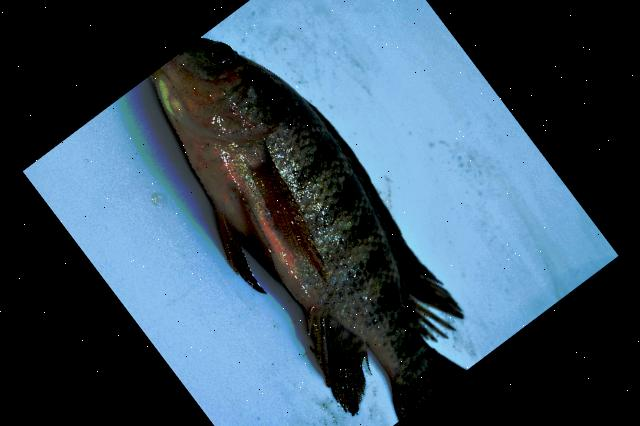Columnaris Disease: (151, 38, 465, 421)
